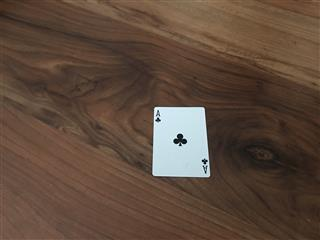AceOfClubs: (152, 106, 210, 177)
